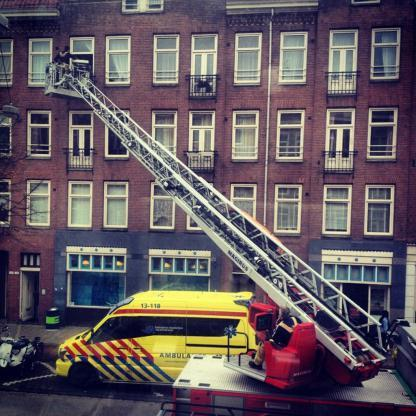ambulance: (54, 290, 264, 391)
